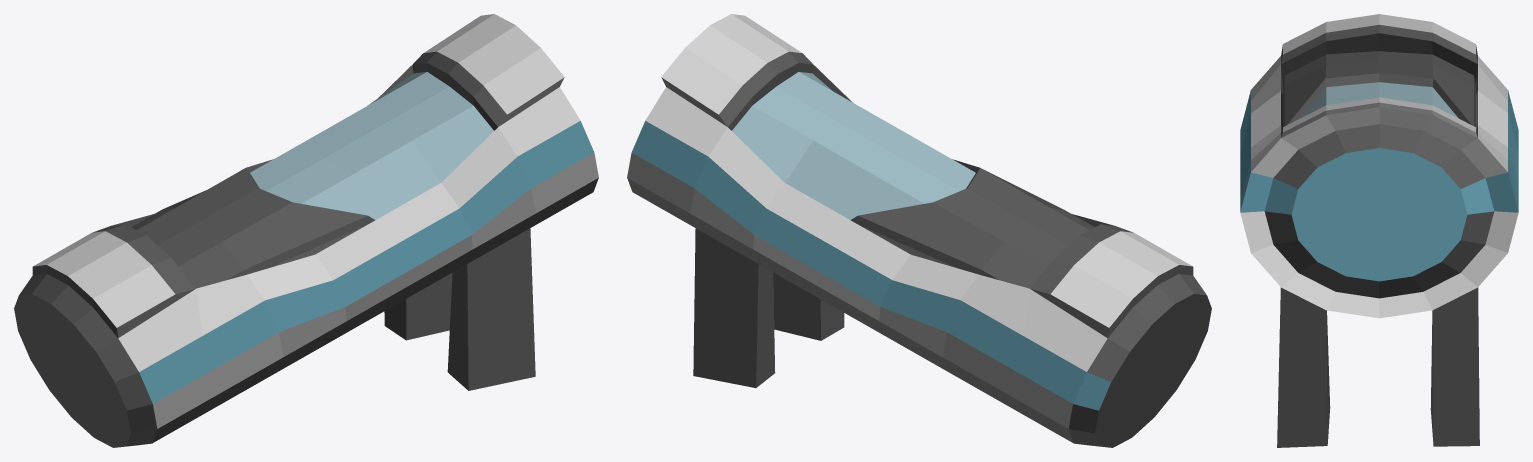
The model's file is CryoTubeDown.dae.
3 views of the same model, side by side, from view 1: azimuth 30°, elevation 25°; view 2: azimuth 150°, elevation 25°; view 3: azimuth 270°, elevation 25° (orthographic). The views are drawn at different scales.
Parts seen in each view (by area): view 1: CryoTubeDown; view 2: CryoTubeDown; view 3: CryoTubeDown.
Boxes of the visible parts, box(x1,y1,x2,y2) form: CryoTubeDown: box(14, 14, 598, 447); CryoTubeDown: box(627, 14, 1211, 447); CryoTubeDown: box(1240, 14, 1518, 447).
Bounding box in the file's own units: 2.75 × 1.13 × 1.62.
